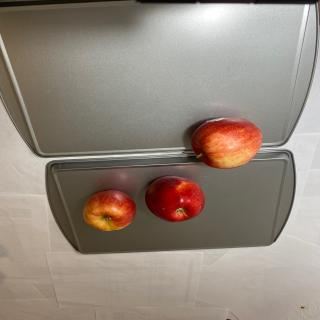Apple: (191, 117, 262, 169), (145, 175, 205, 222), (82, 190, 136, 232)
